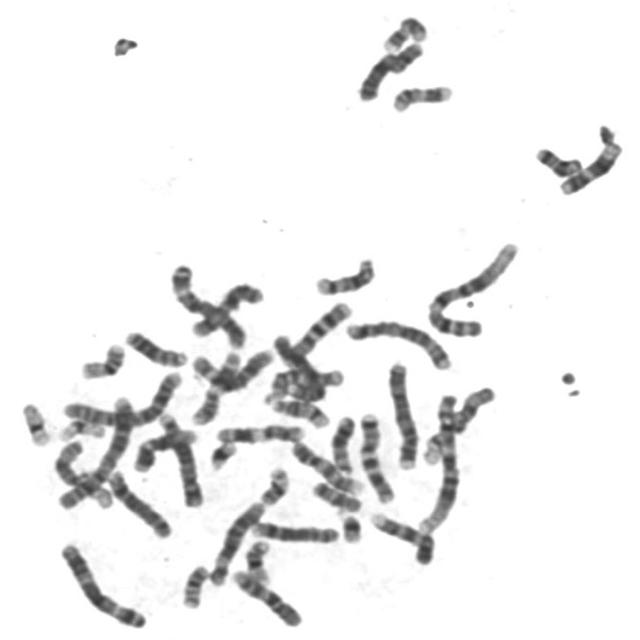A1: (421, 233, 523, 340), (412, 387, 466, 537)
A2: (49, 387, 139, 510), (56, 363, 186, 430)
A3: (54, 535, 151, 631), (164, 257, 250, 349)
B4: (382, 355, 423, 471), (268, 328, 329, 404)
B5: (339, 313, 456, 371), (153, 406, 207, 509)
C10: (226, 563, 307, 629), (283, 294, 355, 362)
C11: (187, 344, 245, 426), (210, 417, 309, 445)
C12: (552, 136, 627, 196), (127, 421, 203, 474)
C6: (204, 495, 268, 588), (187, 341, 278, 392)
C7: (354, 406, 398, 504), (262, 366, 354, 399)
C8: (102, 464, 175, 540), (246, 514, 343, 545)
C9: (286, 435, 368, 496), (365, 505, 439, 566)
D13: (119, 322, 190, 368), (325, 409, 360, 474)
D14: (309, 250, 380, 297), (262, 391, 334, 429)
D15: (445, 386, 503, 435), (55, 432, 95, 492)
E16: (75, 336, 129, 380), (240, 534, 276, 584)
E17: (387, 77, 456, 114), (376, 8, 431, 53)
E18: (307, 474, 367, 514), (529, 140, 585, 178)
F19: (15, 395, 55, 448), (53, 413, 109, 441)
F20: (175, 558, 212, 610), (254, 460, 293, 507)
G21: (332, 504, 367, 546), (203, 434, 240, 472)
G22: (416, 430, 452, 469), (80, 478, 111, 508)
X: (351, 35, 428, 103), (188, 282, 268, 342)
